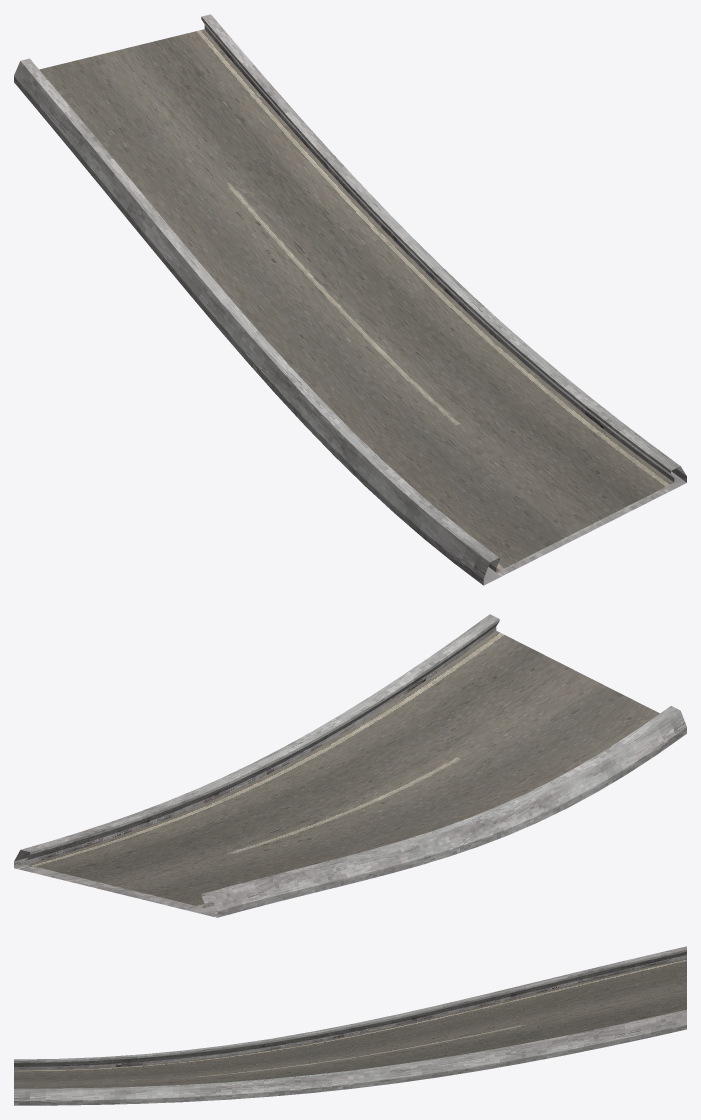
Rendered from road-Straight-HalfBankedLeft-BiSlopeUp-Up3-Center-Size4.glb.
3 renders of one model, top to bottom at view 1: azimuth 30°, elevation 25°; view 2: azimuth 150°, elevation 25°; view 3: azimuth 270°, elevation 25°, orthographic. The views are drawn at different scales.
Visible parts, largest first — view 1: road-Straight-HalfBankedLeft-BiSlopeUp-Up3-Center-Size4; view 2: road-Straight-HalfBankedLeft-BiSlopeUp-Up3-Center-Size4; view 3: road-Straight-HalfBankedLeft-BiSlopeUp-Up3-Center-Size4.
Part boxes in pixels (left/top/right/bottom): road-Straight-HalfBankedLeft-BiSlopeUp-Up3-Center-Size4: left=14, top=14, right=686, bottom=585; road-Straight-HalfBankedLeft-BiSlopeUp-Up3-Center-Size4: left=14, top=614, right=686, bottom=917; road-Straight-HalfBankedLeft-BiSlopeUp-Up3-Center-Size4: left=14, top=946, right=686, bottom=1105.
Size of the model in its own units: 1 by 0.8437 by 4.
2 materials, 2 textured.
